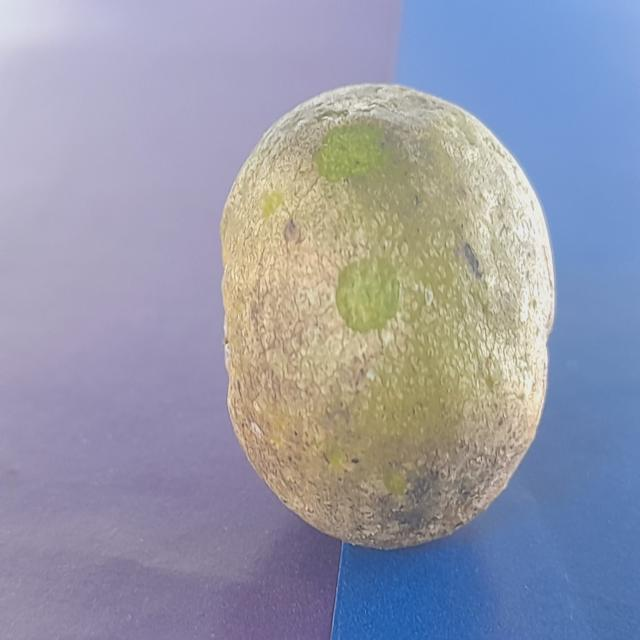thrips: (147, 46, 602, 604)
